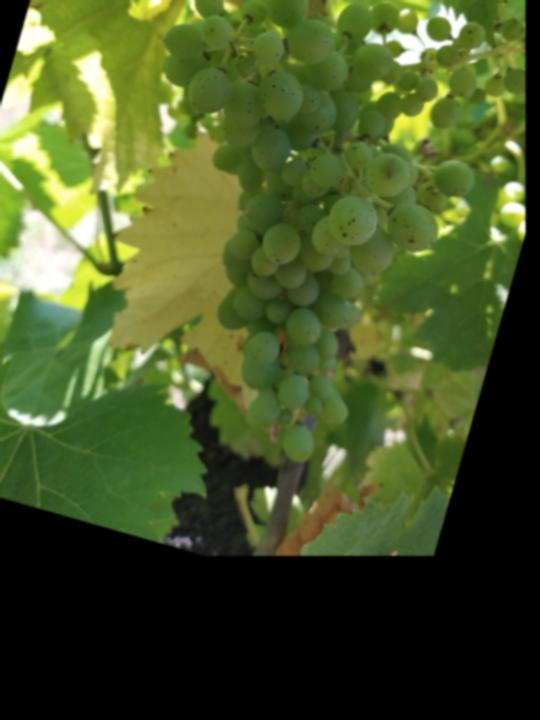grape: (59, 0, 540, 508)
